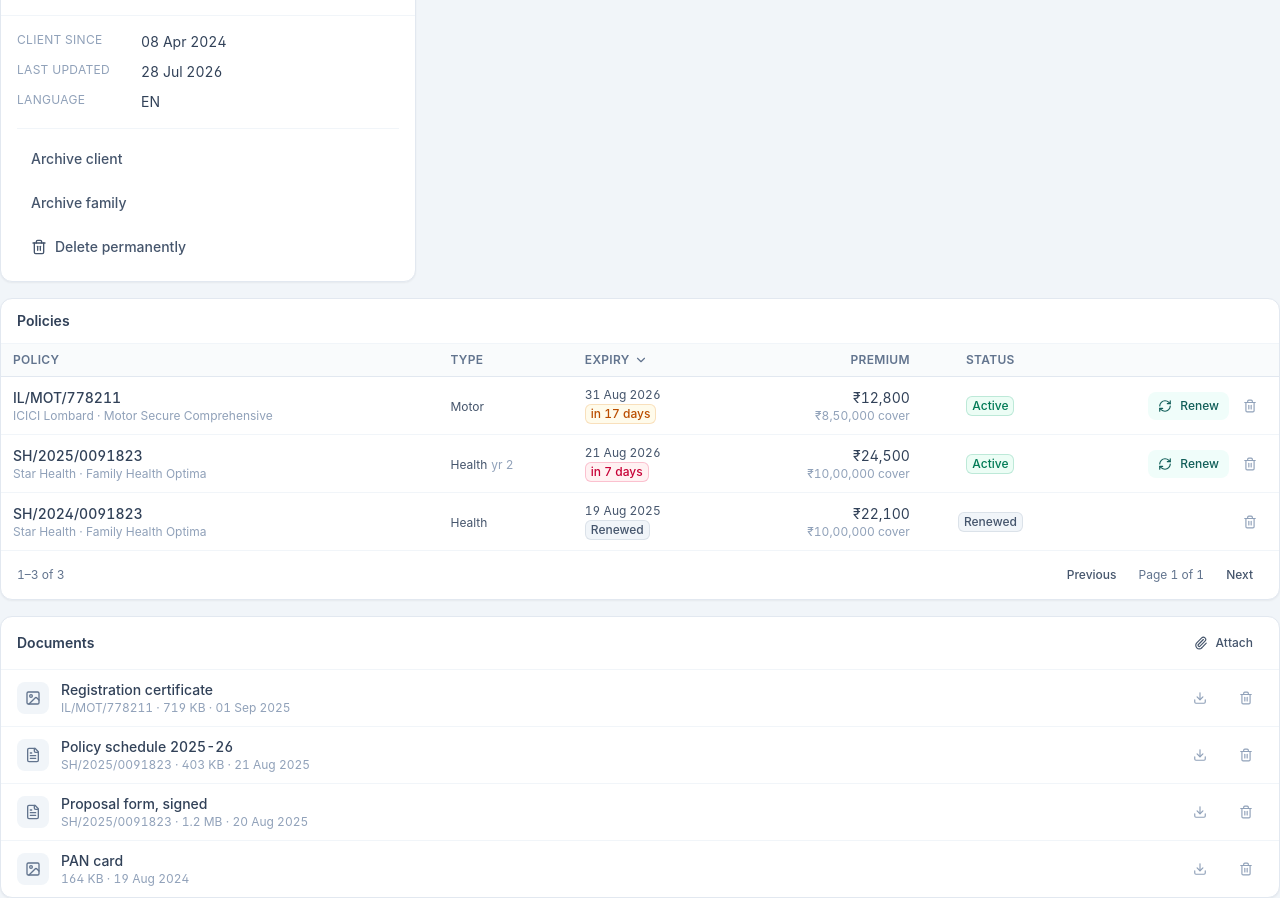
it: the client's policies › renews a policy from here
The image size is (1280, 898).
(page scrolled)
Expected: the table is shown, [1,344,1279,550]
Click the button "Renew" in the row of "yr" at [1189, 464], box [1148,450,1229,478]
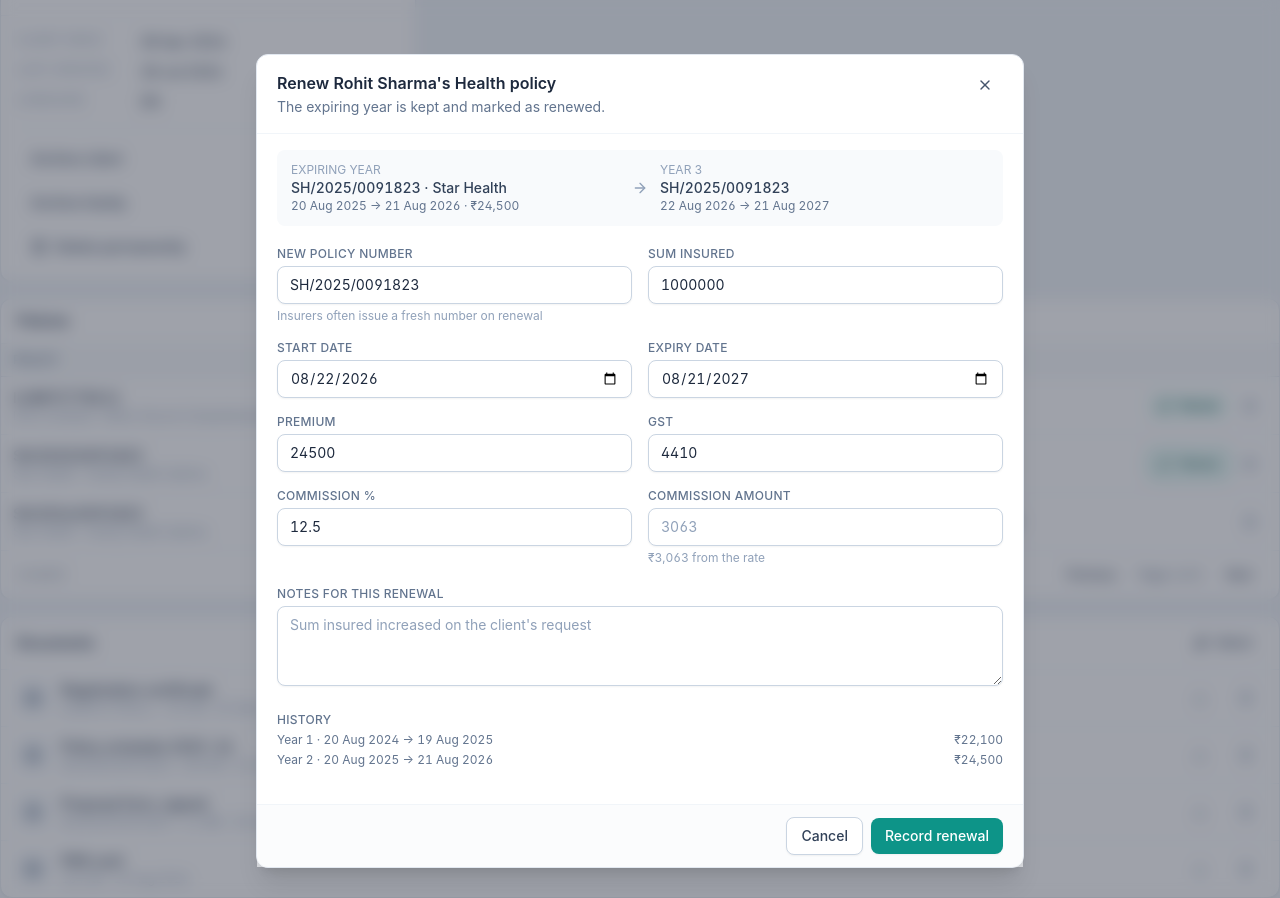
Now the heading "Renew Rohit Sharma's Health policy" is shown, box [277,71,605,95]
Click the button "Record renewal" at [937, 836], box [871,818,1003,854]
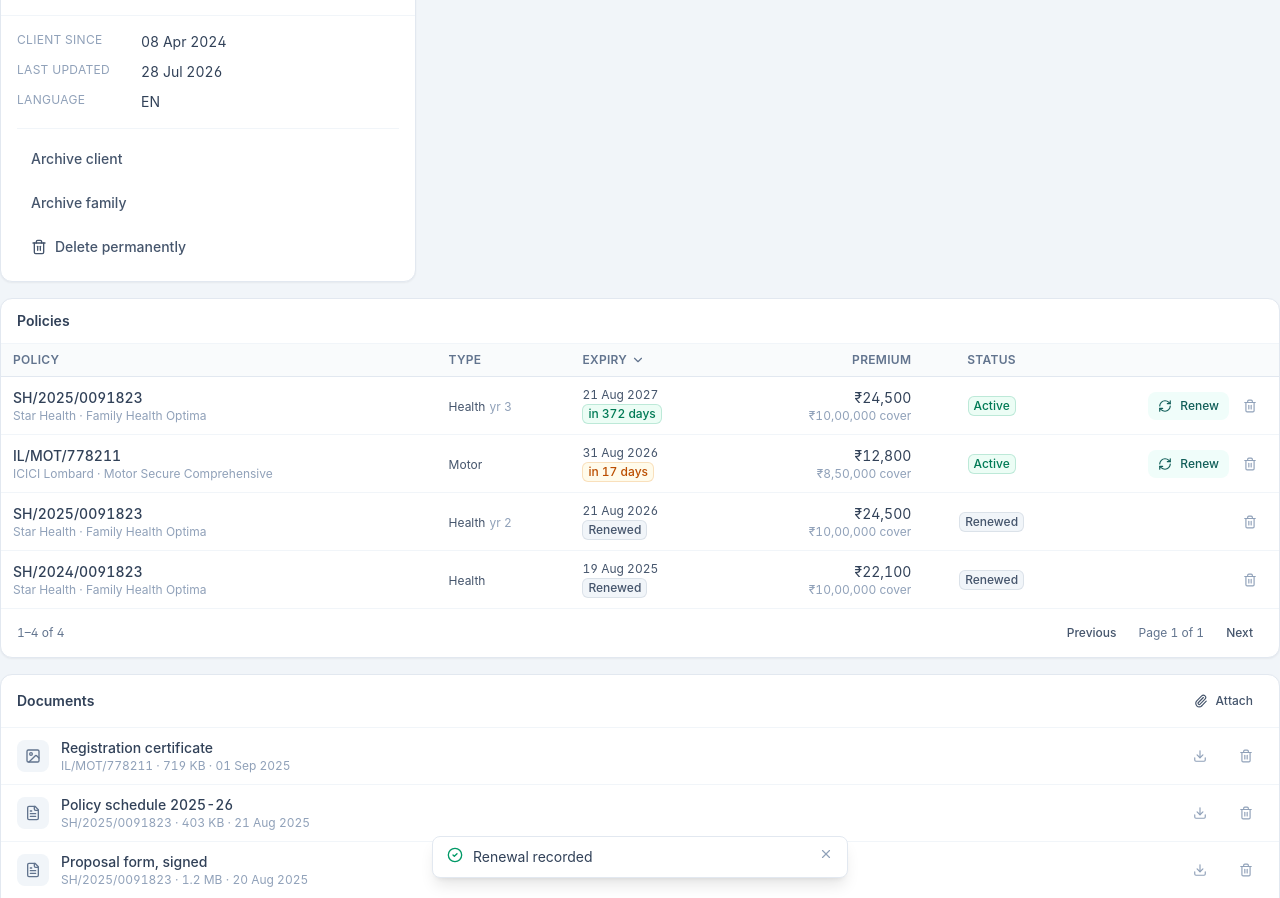
Now the text "Renewal recorded" is shown, box [473,848,593,865]
